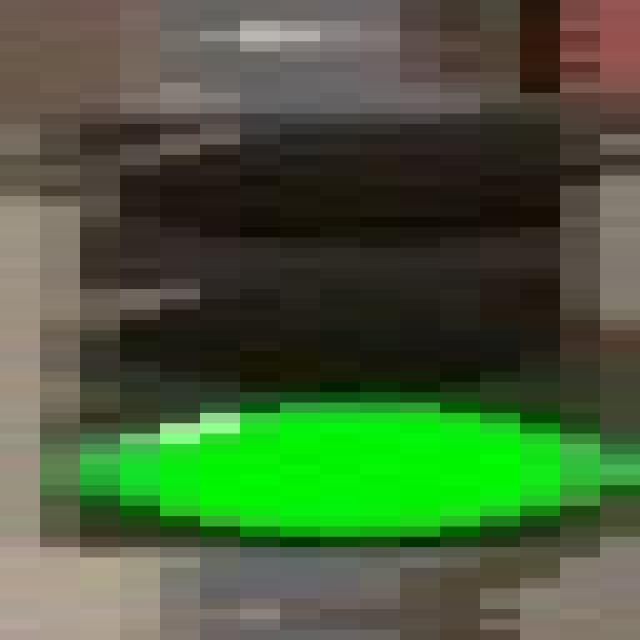green_light: (2, 98, 640, 551)
